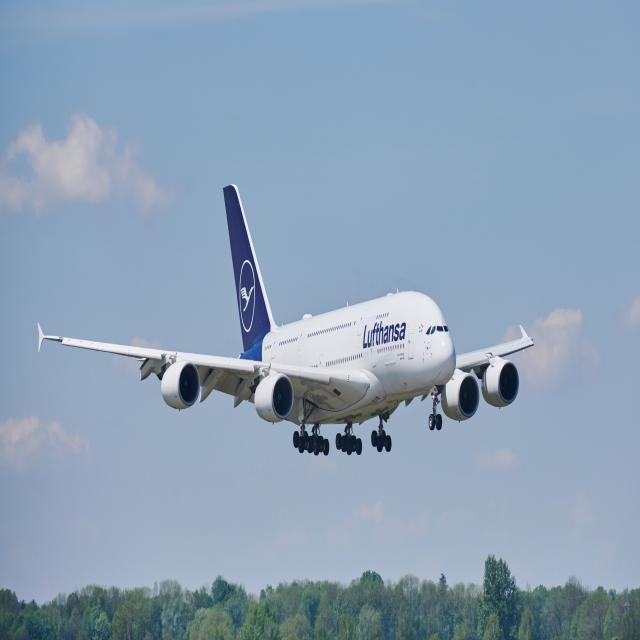A380: (34, 183, 528, 449)
